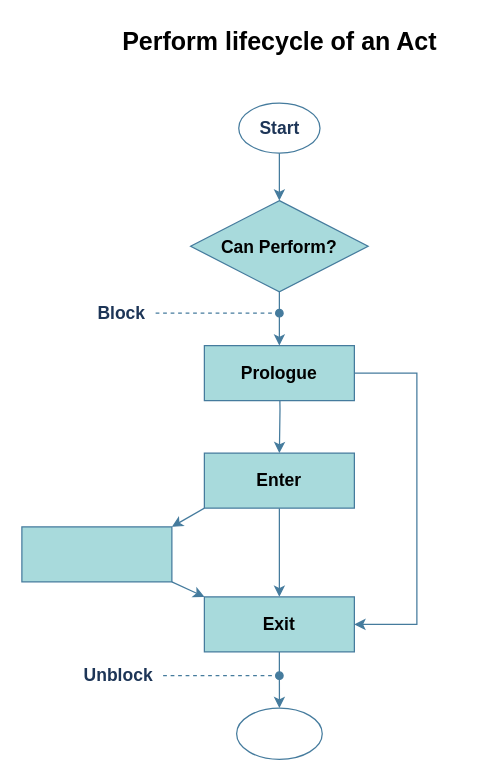
Image size: 479x781. Some labels were removed from this diagram. Here are the shapes that lost their labels. From the top down, the box of each, then its label:
(21, 526, 172, 582): Tick
(235, 707, 322, 759): End
